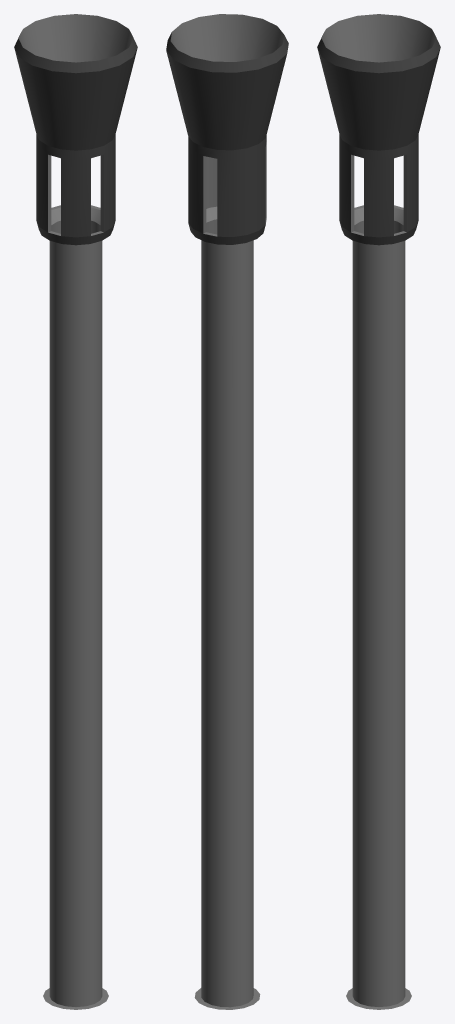
The model's file is Wea_FangKongPao_off.FBX.
3 renders of one model, left to right at view 1: azimuth 90°, elevation 25°; view 2: azimuth 210°, elevation 25°; view 3: azimuth 270°, elevation 25°, orthographic.
Parts seen in each view (by area): view 1: Box001; view 2: Box001; view 3: Box001.
Boxes of the visible parts, left/top/right/bottom form: Box001: left=14, top=14, right=137, bottom=1009; Box001: left=166, top=14, right=288, bottom=1009; Box001: left=317, top=14, right=440, bottom=1009.
Size of the model in its own units: 0.9366 by 8 by 0.9366.
